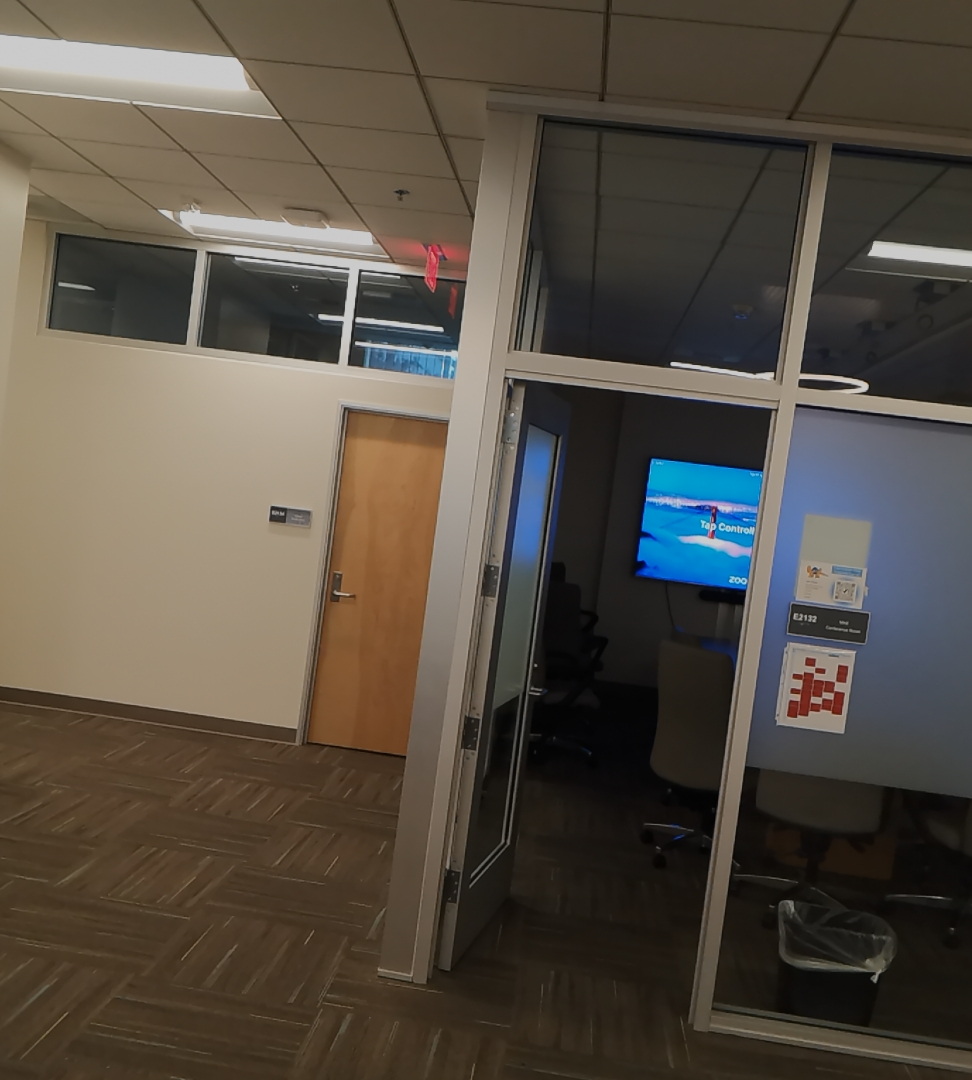emergency_exit: (774, 641, 857, 736)
